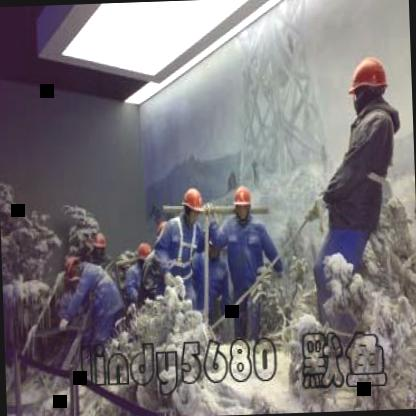helmet: (346, 53, 391, 116), (182, 184, 206, 227), (232, 182, 256, 222), (132, 236, 156, 276), (61, 252, 88, 282), (89, 228, 110, 260)
